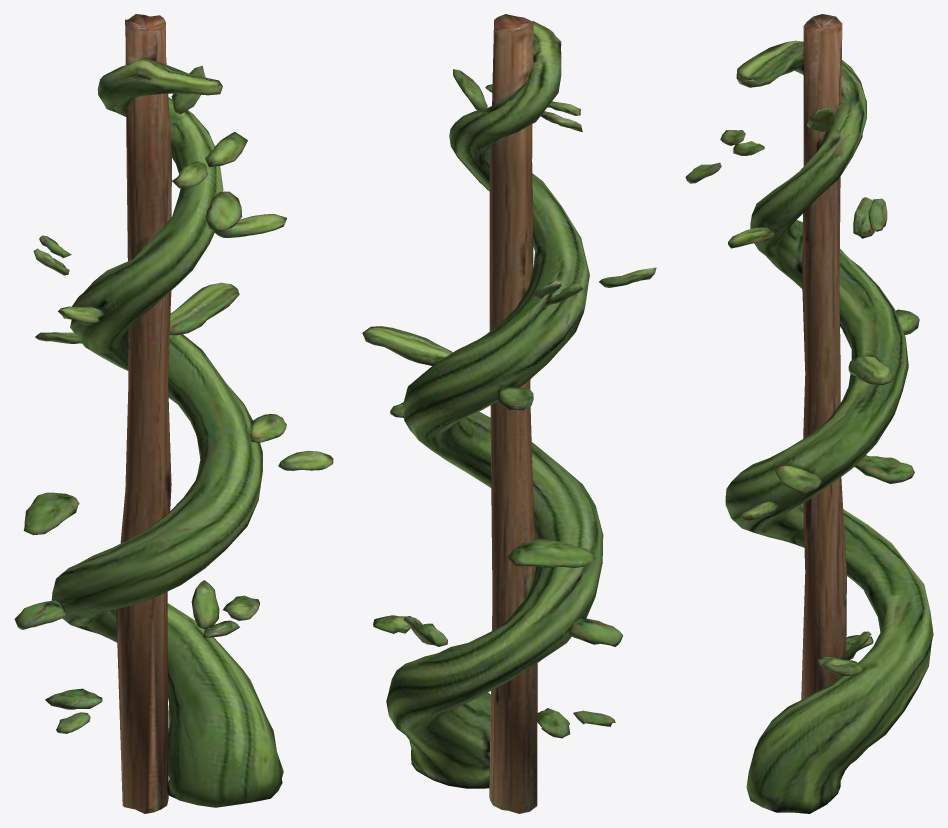
File: jd_cipo.glb
3 views of the same model, side by side, from view 1: azimuth 30°, elevation 25°; view 2: azimuth 150°, elevation 25°; view 3: azimuth 270°, elevation 25° (orthographic). The views are drawn at different scales.
Parts seen in each view (by area): view 1: mesh_node; view 2: mesh_node; view 3: mesh_node.
Boxes of the visible parts, box(x1,y1,x2,y2) form: mesh_node: box(14, 14, 333, 813); mesh_node: box(362, 14, 656, 813); mesh_node: box(685, 14, 933, 813).
Size of the model in its own units: 0.1836 by 0.5215 by 0.1567.
Materials: 1 (1 with a texture image).
